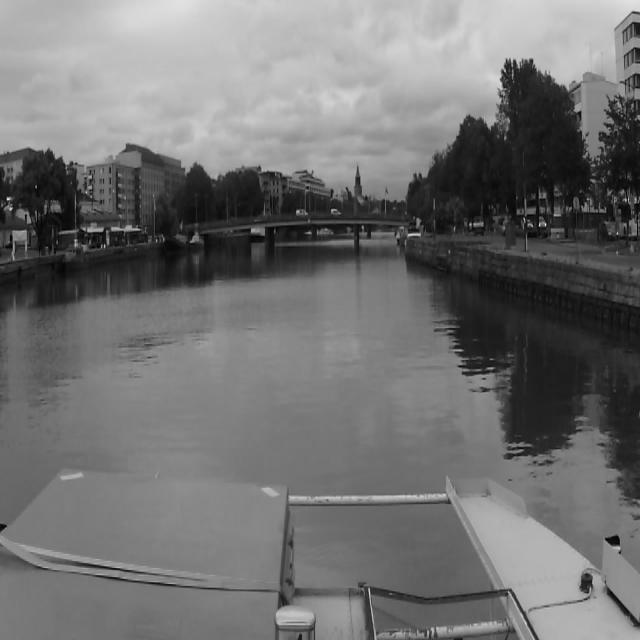ship: (63, 244, 89, 276), (178, 223, 185, 244), (192, 233, 204, 243)
